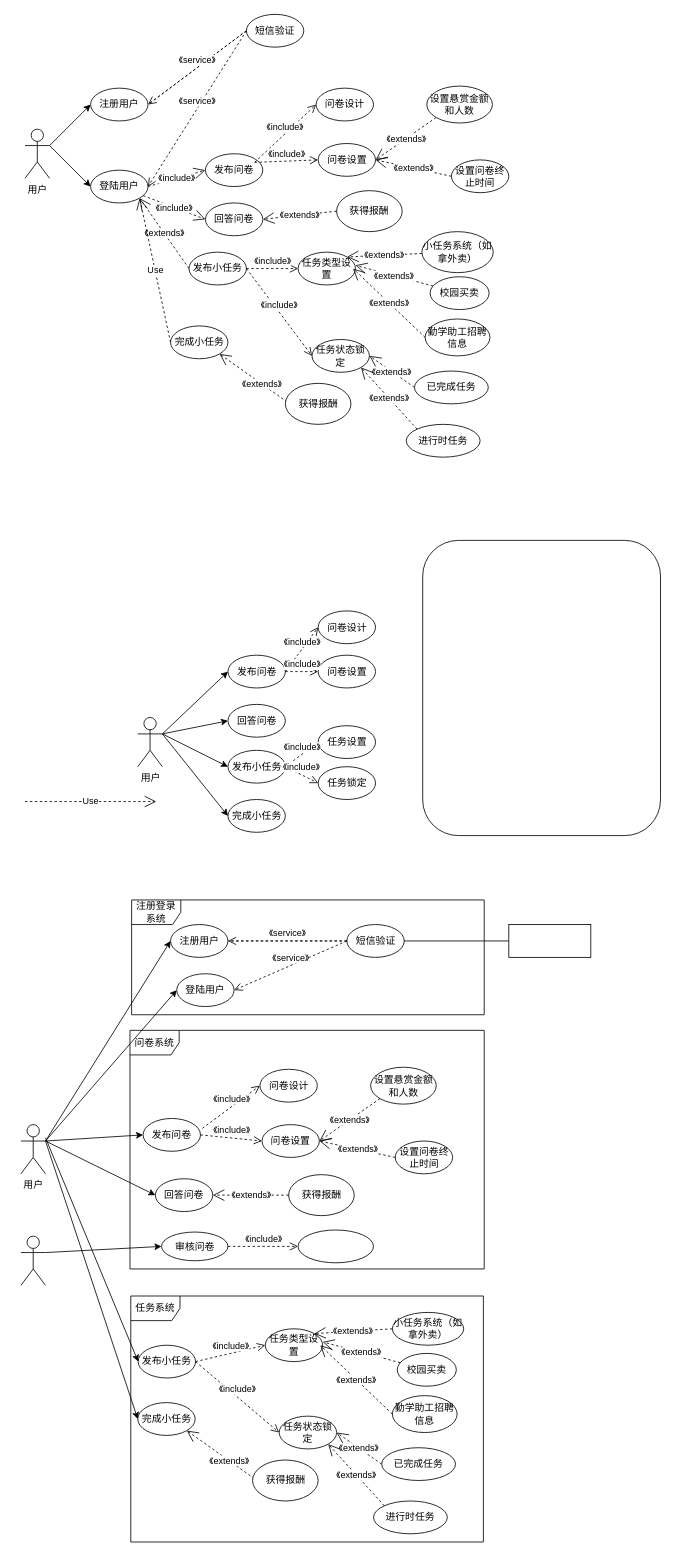
The diagram is 675 pixels wide and 1556 high, and some of its shapes have lost their labels. Each missing label, with the centre of its shape:
Text: the point at 541,688
撤回问卷: the point at 335,1246
移动电信联通API: the point at 549,940
管理者: the point at 33,1260
